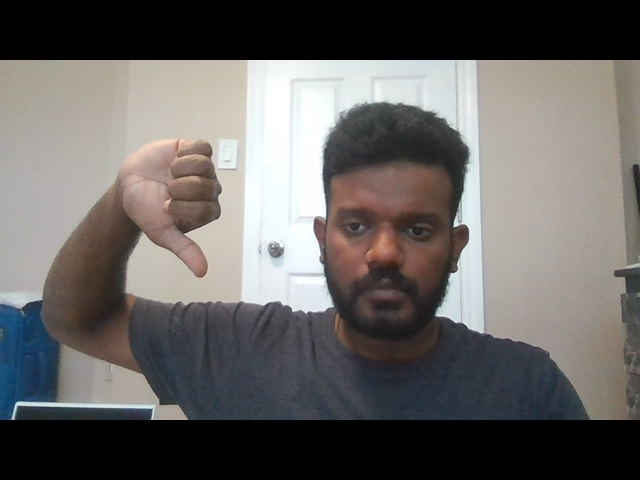no: (115, 134, 225, 282)
